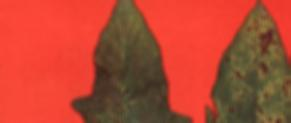Tomato Septoria leaf spot: (71, 0, 195, 123), (204, 0, 291, 123)
